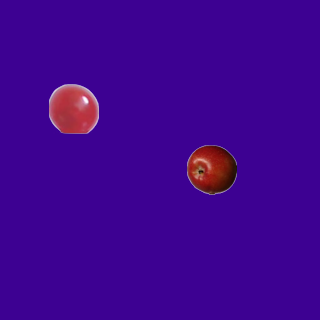Apple Braeburn: (186, 144, 236, 194)
Redcurrant: (48, 83, 98, 133)
